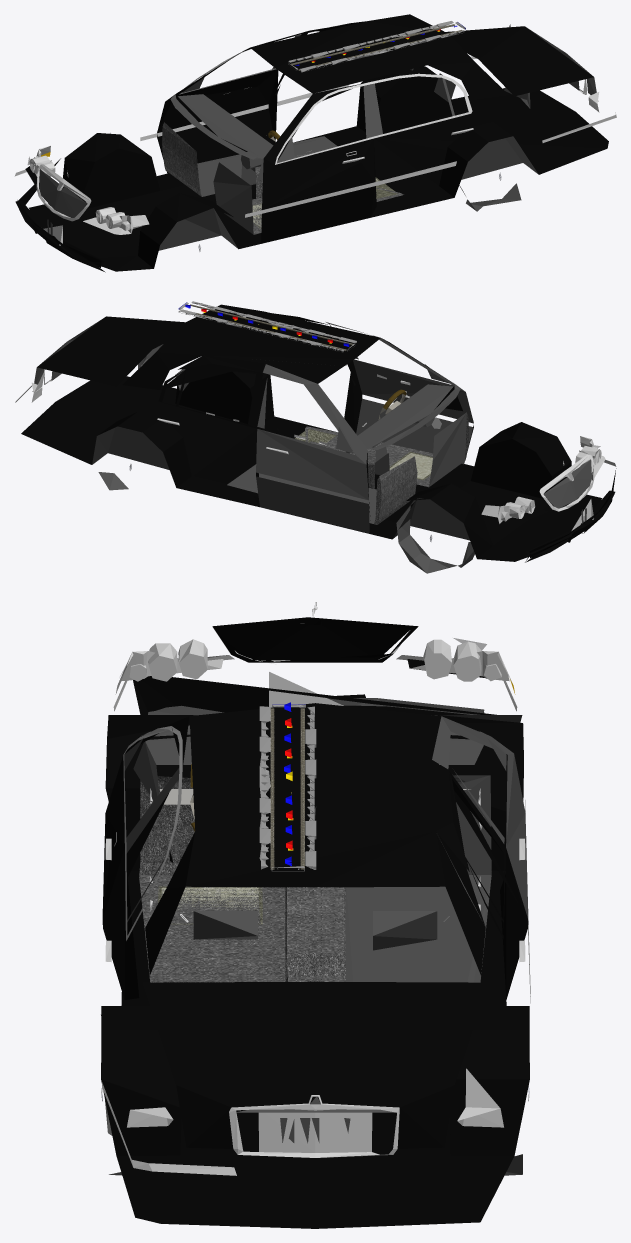
File: towncar_2003.lod1.glb
The picture shows the model from 3 angles, top to bottom: view 1: azimuth 30°, elevation 25°; view 2: azimuth 150°, elevation 25°; view 3: azimuth 270°, elevation 25°; orthographic projection. The views are drawn at different scales.
Parts seen in each view (by area): view 1: Material2 (×5), Material3 (×4); view 2: Material2 (×5), Material3 (×6); view 3: Material2 (×6), Material3 (×4).
Boxes of the visible parts, <box> form: Material2 (×5): <box>14,14,616,272</box>; Material3 (×4): <box>39,27,598,250</box>; Material2 (×5): <box>15,301,616,562</box>; Material3 (×6): <box>32,317,591,573</box>; Material2 (×6): <box>101,617,530,1228</box>; Material3 (×4): <box>105,698,528,1175</box>.
Bounding box in the file's own units: 177 × 49.14 × 61.54.
Materials: 28 (5 with a texture image).
